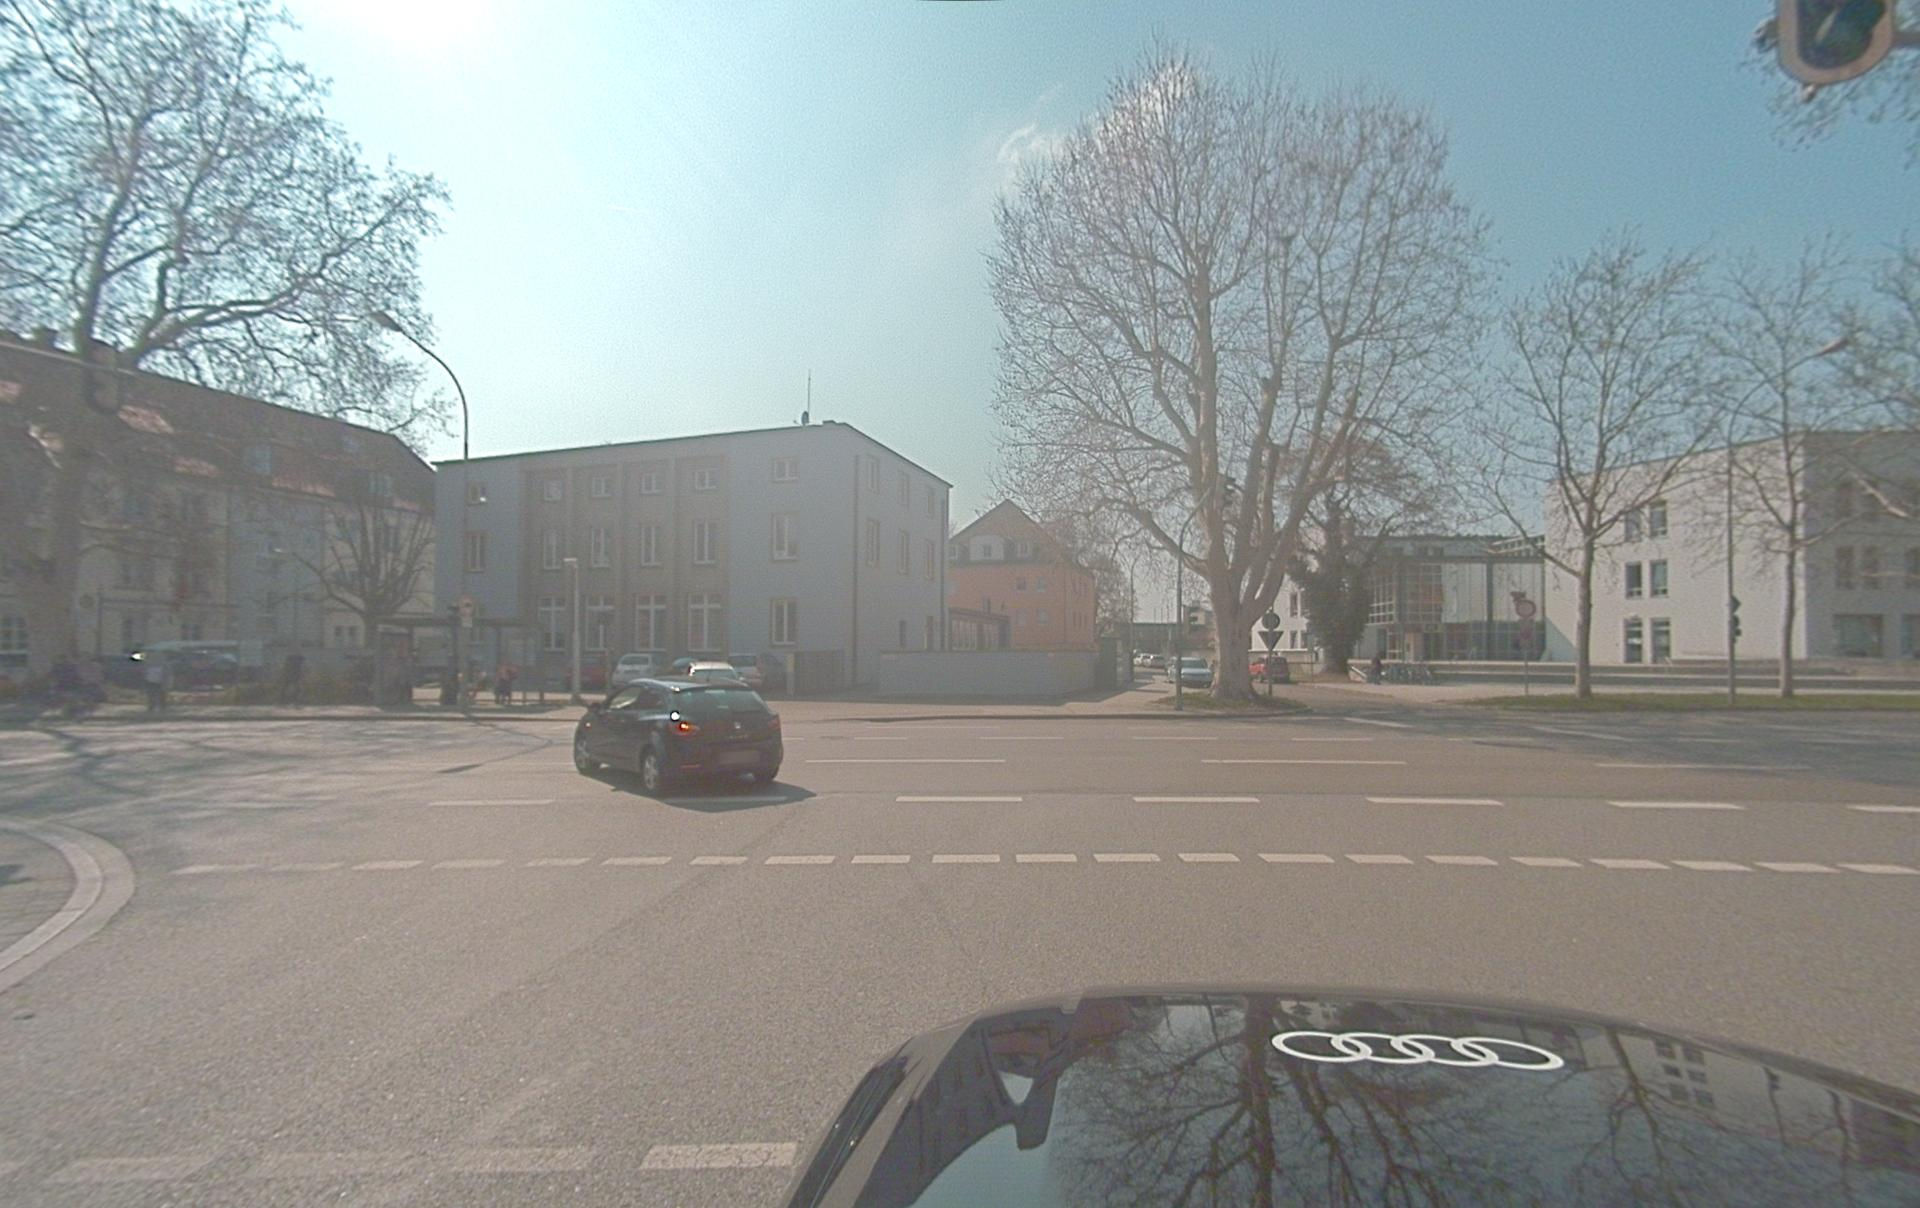car: (779, 985, 1919, 1207), (573, 678, 783, 795), (608, 651, 665, 694), (1166, 655, 1212, 688), (687, 661, 744, 685), (1249, 654, 1290, 683)
